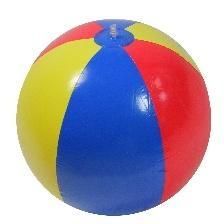Sports-Ball: (15, 17, 212, 215)
